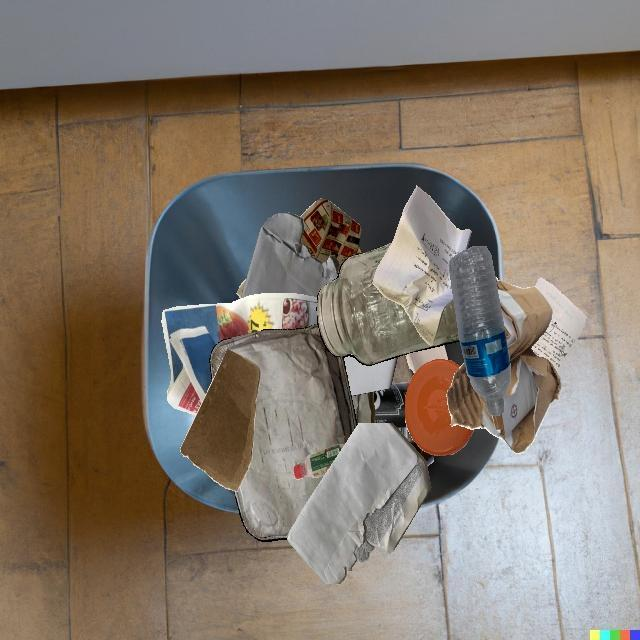cardboard: (446, 277, 562, 454), (180, 349, 261, 492)
glass: (316, 242, 460, 366), (373, 382, 434, 466)
metal: (210, 324, 357, 541)
paper: (287, 423, 431, 584), (162, 293, 318, 415), (372, 186, 472, 346), (241, 213, 340, 299), (530, 277, 587, 375), (300, 198, 362, 275), (343, 356, 398, 396), (405, 345, 448, 373), (351, 392, 375, 425)
plastic: (449, 246, 511, 415), (405, 359, 474, 456), (293, 444, 345, 480)
